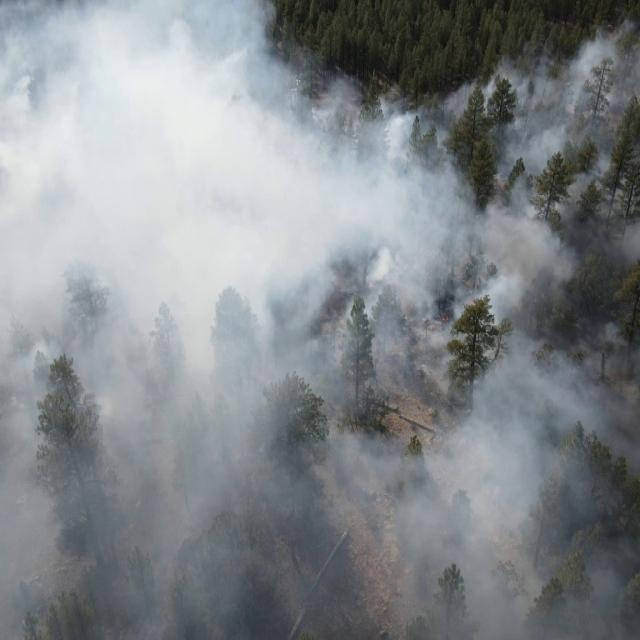fire: (430, 300, 458, 332)
smoke: (0, 0, 276, 640), (402, 70, 640, 636), (275, 70, 400, 640), (499, 27, 640, 69), (277, 24, 335, 70), (614, 11, 640, 27)
